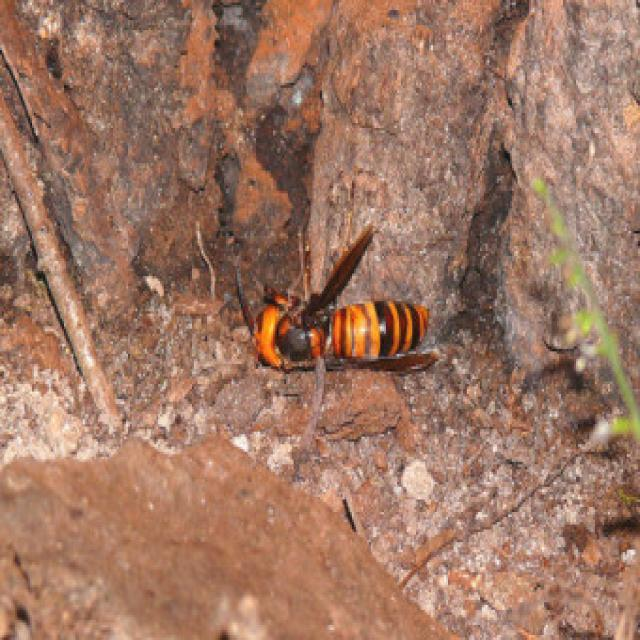Wasp: (239, 224, 441, 380)
